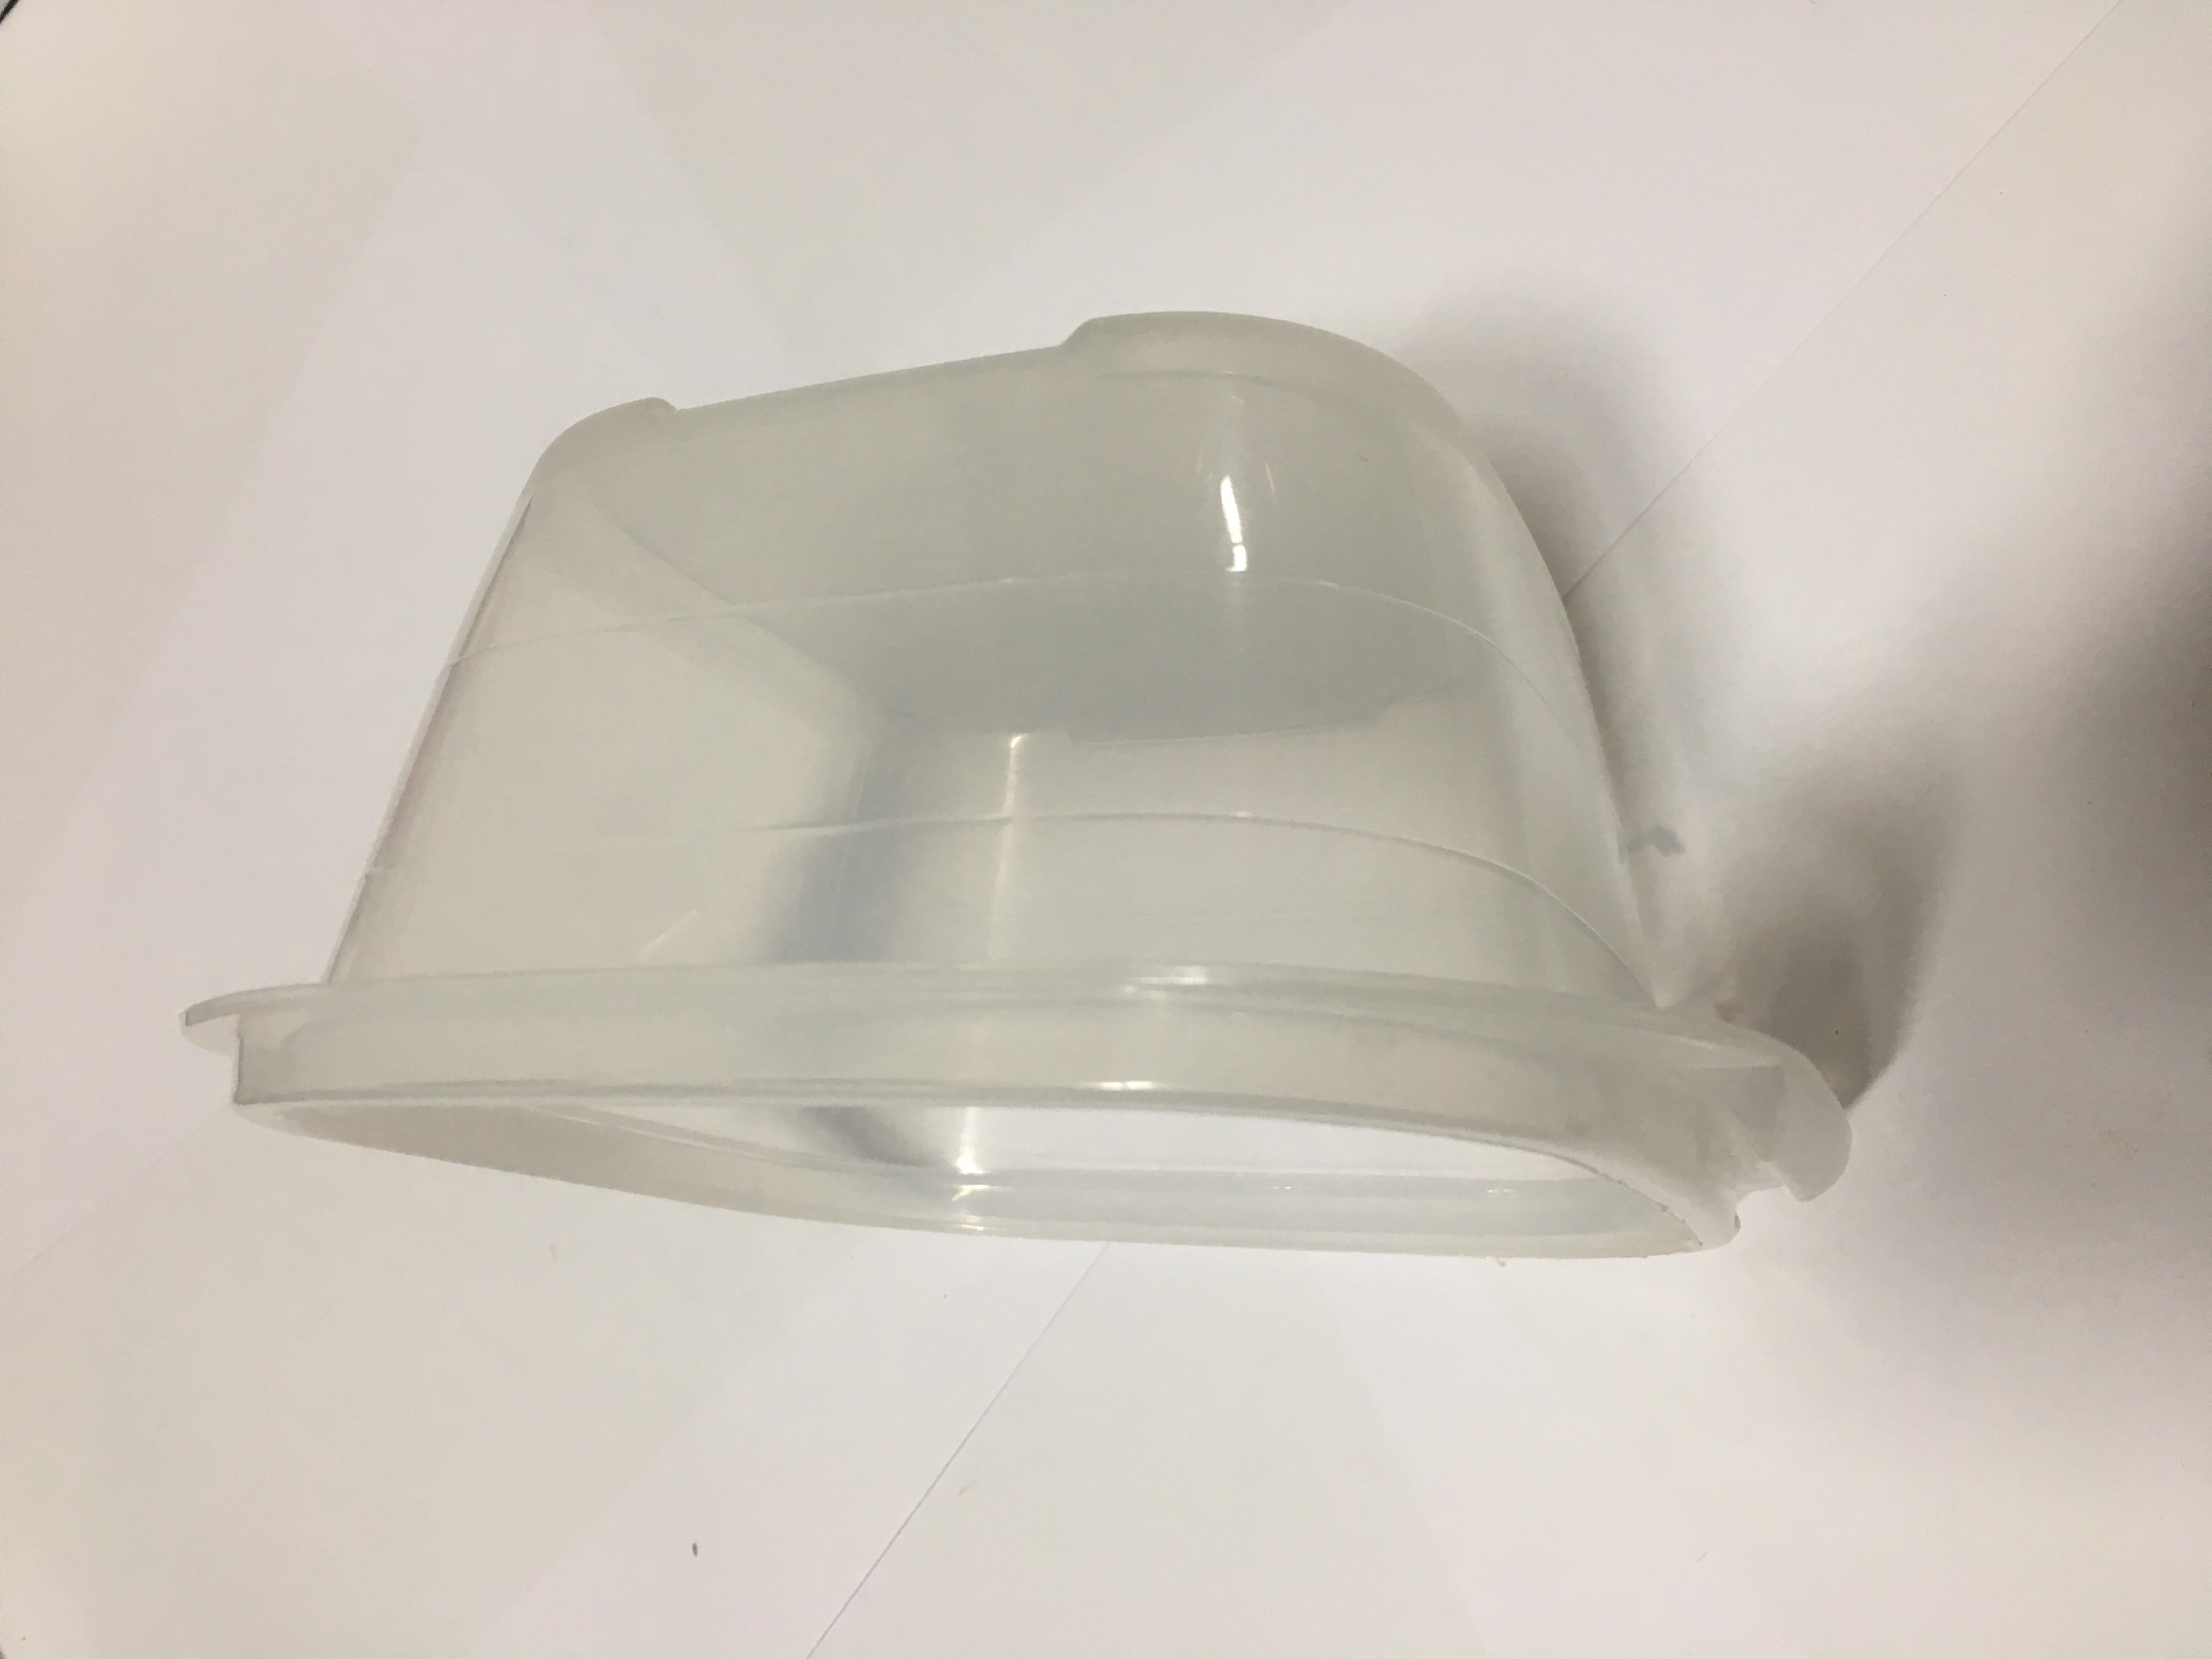bottle: (265, 765, 1820, 777)
